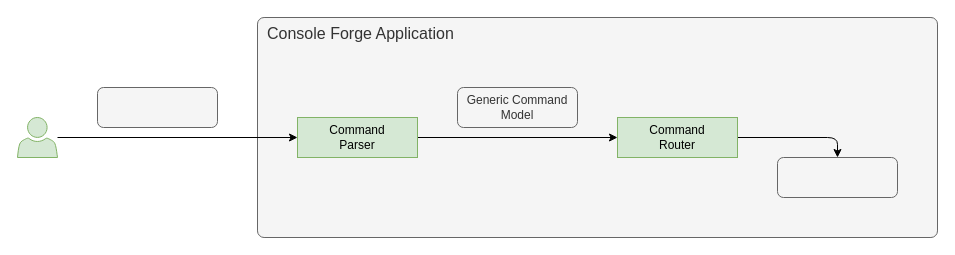
The diagram is 955 pixels wide and 255 high, and some of its shapes have lost their labels. The shapes that lost their labels are listed below. From the top down, each one's box as (x1, y1, x2, y2) in pixels, then its label:
(96, 86, 218, 128): Text (string[] args)
(776, 156, 898, 198): Command Model
